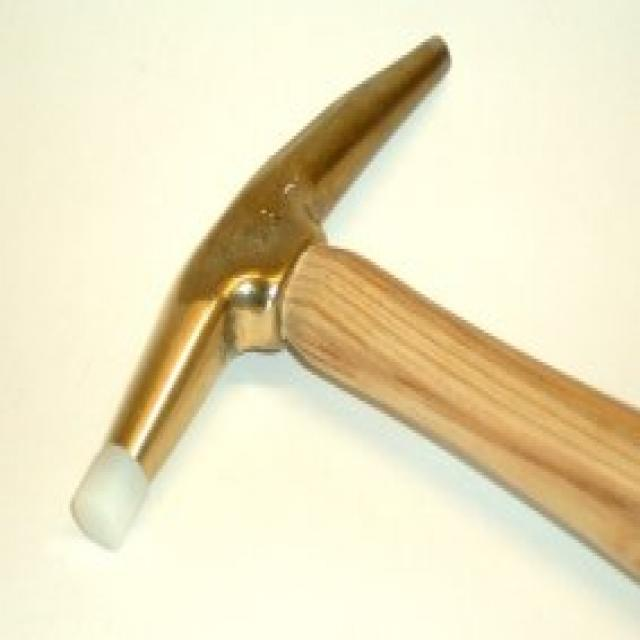hammer: (59, 27, 640, 629)
